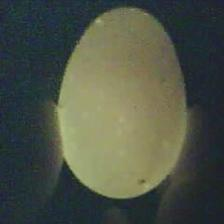infertile: (56, 7, 188, 201)
